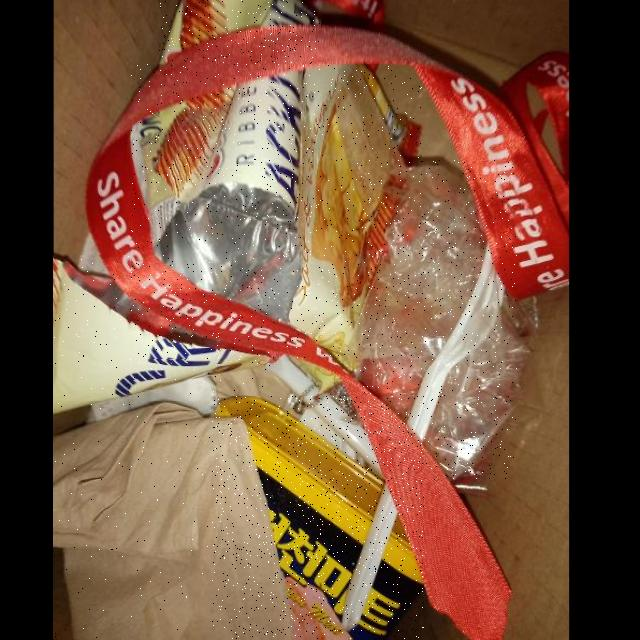paper: (54, 401, 294, 639)
plastic: (213, 397, 424, 639), (359, 161, 517, 480)
wrapper: (131, 65, 422, 359), (54, 256, 271, 408), (160, 0, 320, 67)
